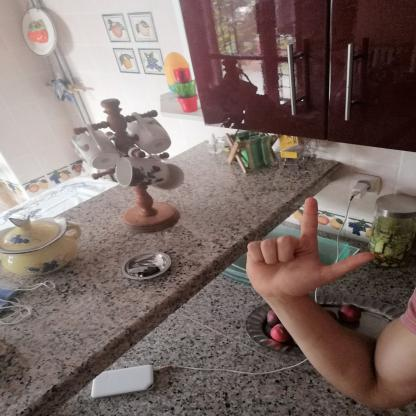LAAM: (237, 191, 383, 307)
